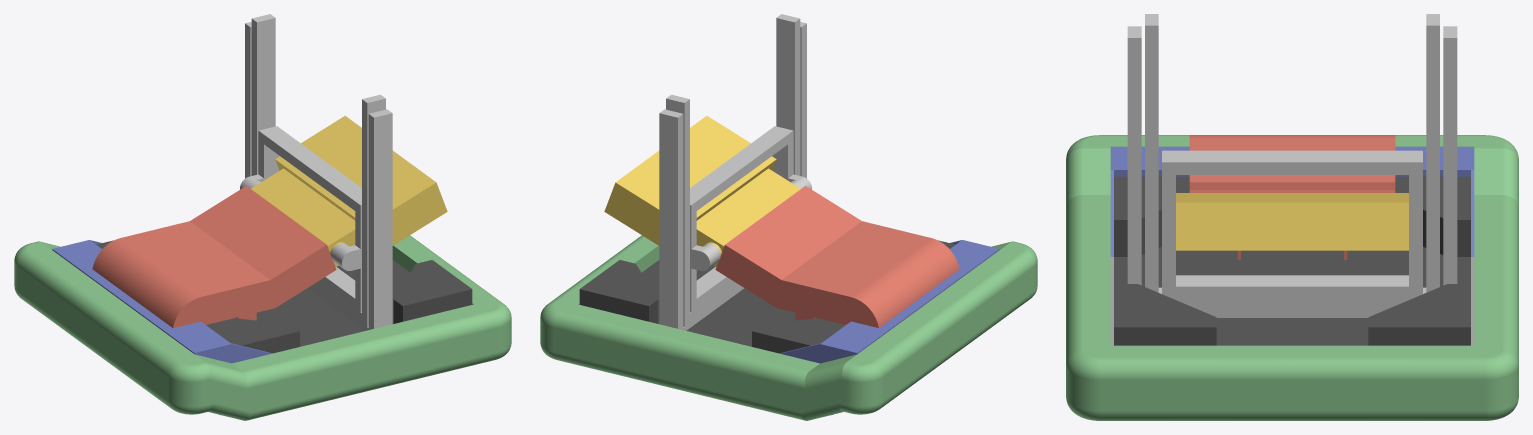
3 renders of one model, left to right at view 1: azimuth 30°, elevation 25°; view 2: azimuth 150°, elevation 25°; view 3: azimuth 270°, elevation 25°, orthographic. The views are drawn at different scales.
Parts seen in each view (by area): view 1: Body1.002, Body1.003, Body1.007, Body1, Body1.004, Body1.006, Body1.005, Body1.001; view 2: Body1.002, Body1.003, Body1.007, Body1, Body1.004, Body1.006, Body1.005, Body1.001; view 3: Body1.002, Body1, Body1.006, Body1.007, Body1.005, Body1.004, Body1.003, Body1.001.
Part boxes in pixels (x1,y1,x2,y2): Body1.002: [14, 235, 511, 420]; Body1.003: [92, 186, 336, 327]; Body1.007: [251, 115, 447, 266]; Body1: [96, 240, 472, 353]; Body1.004: [245, 22, 392, 330]; Body1.006: [240, 126, 361, 312]; Body1.005: [251, 14, 385, 326]; Body1.001: [52, 240, 272, 415]; Body1.002: [540, 235, 1037, 420]; Body1.003: [715, 186, 959, 327]; Body1.007: [604, 116, 800, 266]; Body1: [579, 240, 955, 353]; Body1.004: [659, 22, 806, 330]; Body1.006: [690, 126, 811, 312]; Body1.005: [666, 14, 800, 326]; Body1.001: [779, 240, 999, 415]; Body1.002: [1066, 135, 1518, 420]; Body1: [1114, 176, 1470, 345]; Body1.006: [1162, 150, 1422, 299]; Body1.007: [1176, 193, 1408, 250]; Body1.005: [1145, 14, 1439, 311]; Body1.004: [1127, 26, 1457, 317]; Body1.003: [1189, 135, 1395, 259]; Body1.001: [1110, 146, 1474, 256].
Bounding box in the file's own units: 0.9271 × 0.6985 × 0.8382.
